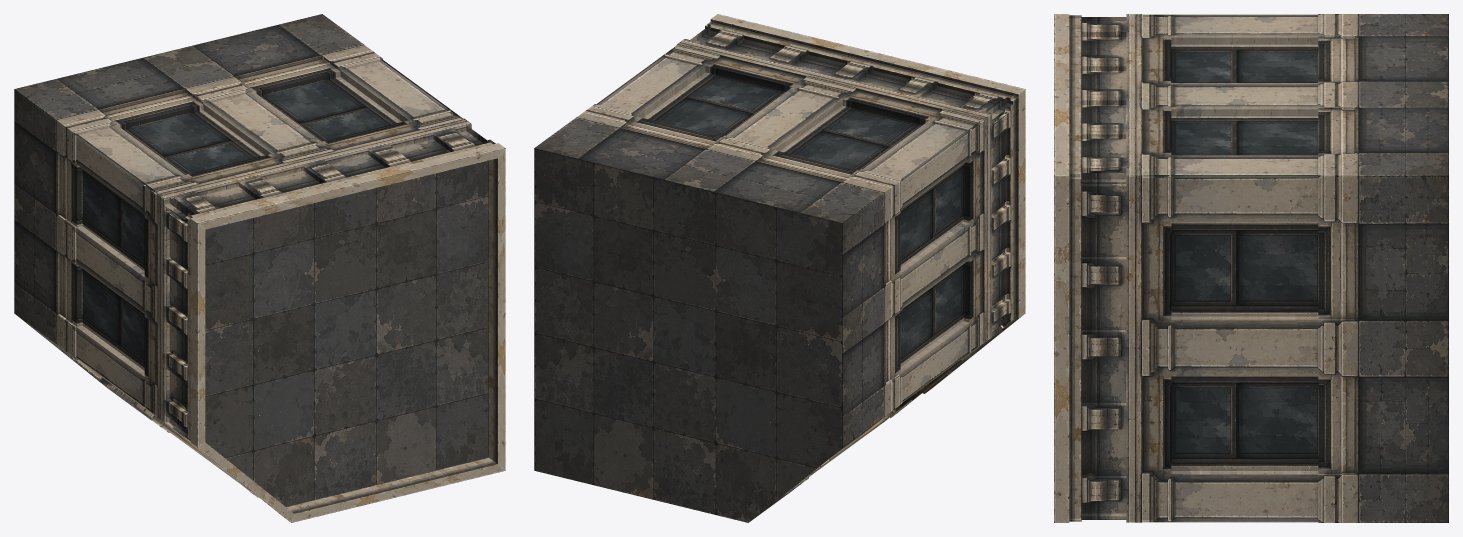
Rendered from building.obj.
3 views of the same model, side by side, from view 1: azimuth 30°, elevation 25°; view 2: azimuth 150°, elevation 25°; view 3: azimuth 270°, elevation 25° (orthographic). The views are drawn at different scales.
Parts seen in each view (by area): view 1: recessed-roof, parapet-inner-1, parapet-cap-2, parapet-cap-1, parapet-inner-0, parapet-cap-3, parapet-cap-0, hidden-north-panel-3-7, hidden-north-panel-9-7, parapet-cap-4, hidden-north-panel-11-7, west-panel-11-7 (+26 smaller); view 2: floor, hidden-north-panel-3-7, hidden-north-panel-3-6, hidden-north-panel-9-7, hidden-north-panel-9-6, hidden-north-panel-11-7, west-panel-11-7, hidden-north-panel-7-7, hidden-north-panel-13-7, hidden-north-panel-1-7, west-panel-3-7, hidden-north-panel-11-6 (+23 smaller); view 3: hidden-east-panel-3-7, hidden-east-panel-9-7, hidden-east-panel-11-7, hidden-east-panel-3-6, hidden-east-panel-9-6, hidden-east-panel-5-7, hidden-east-panel-1-7, hidden-east-panel-7-7, hidden-east-panel-13-7, hidden-east-panel-11-6, hidden-east-panel-4-7, hidden-east-panel-10-7 (+143 smaller).
Part boxes in pixels (<box>): recessed-roof: <box>205,160,488,506</box>; parapet-inner-1: <box>488,158,497,463</box>; parapet-cap-2: <box>198,148,505,229</box>; parapet-cap-1: <box>498,149,505,470</box>; parapet-inner-0: <box>286,457,497,513</box>; parapet-cap-3: <box>197,224,205,447</box>; parapet-cap-0: <box>291,464,505,522</box>; hidden-north-panel-3-7: <box>301,77,379,115</box>; hidden-north-panel-9-7: <box>171,110,242,147</box>; parapet-cap-4: <box>198,442,294,522</box>; hidden-north-panel-11-7: <box>123,123,188,158</box>; west-panel-11-7: <box>82,302,122,353</box>; floor: <box>534,148,842,522</box>; hidden-north-panel-3-7: <box>643,93,716,127</box>; hidden-north-panel-3-6: <box>677,72,745,102</box>; hidden-north-panel-9-7: <box>780,126,846,159</box>; hidden-north-panel-9-6: <box>815,106,874,134</box>; hidden-north-panel-11-7: <box>834,139,893,170</box>; west-panel-11-7: <box>900,318,934,366</box>; hidden-north-panel-7-7: <box>744,112,802,145</box>; hidden-north-panel-13-7: <box>873,144,932,176</box>; hidden-north-panel-1-7: <box>614,80,672,113</box>; west-panel-3-7: <box>900,185,934,232</box>; hidden-north-panel-11-6: <box>868,119,922,145</box>; hidden-east-panel-3-7: <box>1232,426,1318,470</box>; hidden-east-panel-9-7: <box>1232,280,1318,316</box>; hidden-east-panel-11-7: <box>1232,222,1318,255</box>; hidden-east-panel-3-6: <box>1171,426,1232,470</box>; hidden-east-panel-9-6: <box>1171,280,1232,316</box>; hidden-east-panel-5-7: <box>1232,376,1318,401</box>; hidden-east-panel-1-7: <box>1232,478,1318,502</box>; hidden-east-panel-7-7: <box>1232,332,1318,356</box>; hidden-east-panel-13-7: <box>1232,186,1318,210</box>; hidden-east-panel-11-6: <box>1171,222,1232,255</box>; hidden-east-panel-4-7: <box>1232,402,1318,425</box>; hidden-east-panel-10-7: <box>1232,256,1318,279</box>.
Size of the model in its own units: 128 by 128 by 132.
Materials: 3 (3 with a texture image).
